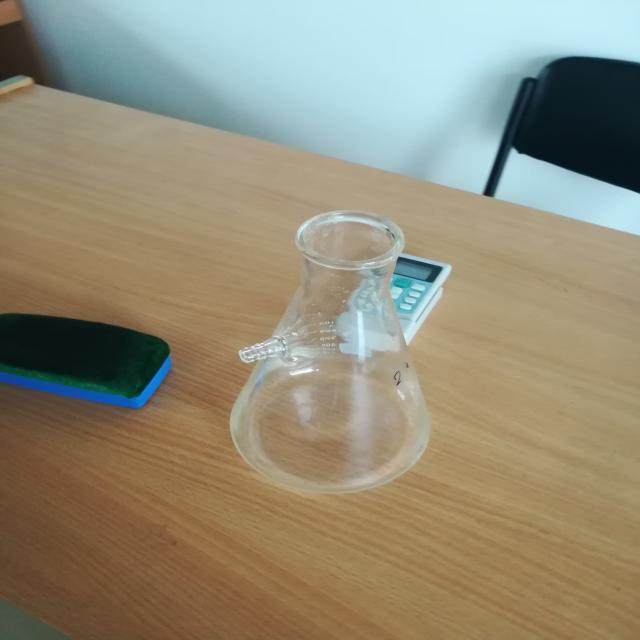Conical_Flask: (202, 137, 458, 536)
